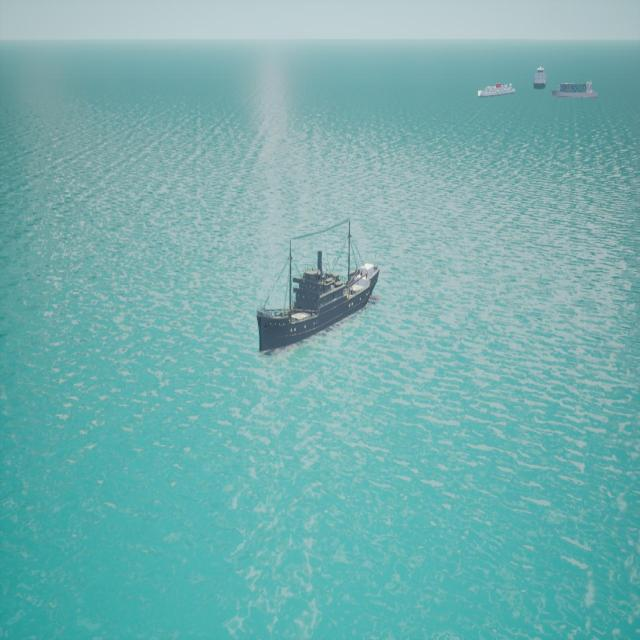fishing ship: (255, 227, 383, 356), (555, 81, 601, 100), (479, 84, 520, 100), (536, 66, 549, 89)
